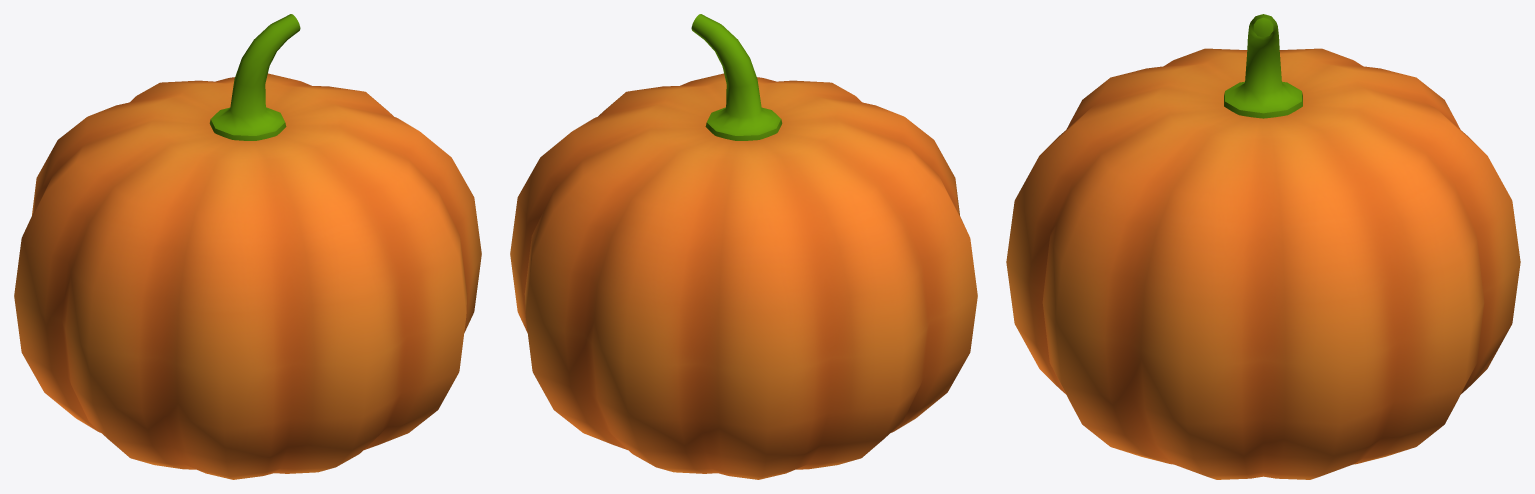
The model's file is ENV1810024.fbx.
3 renders of one model, left to right at view 1: azimuth 30°, elevation 25°; view 2: azimuth 150°, elevation 25°; view 3: azimuth 270°, elevation 25°, orthographic. The views are drawn at different scales.
Parts seen in each view (by area): view 1: smENV1810024; view 2: smENV1810024; view 3: smENV1810024.
Part boxes in pixels (x1,y1,x2,y2): smENV1810024: (14, 14, 481, 479); smENV1810024: (510, 14, 977, 479); smENV1810024: (1006, 14, 1520, 479).
Size of the model in its own units: 31.8 by 31.05 by 33.43.
1 material, 1 textured.
